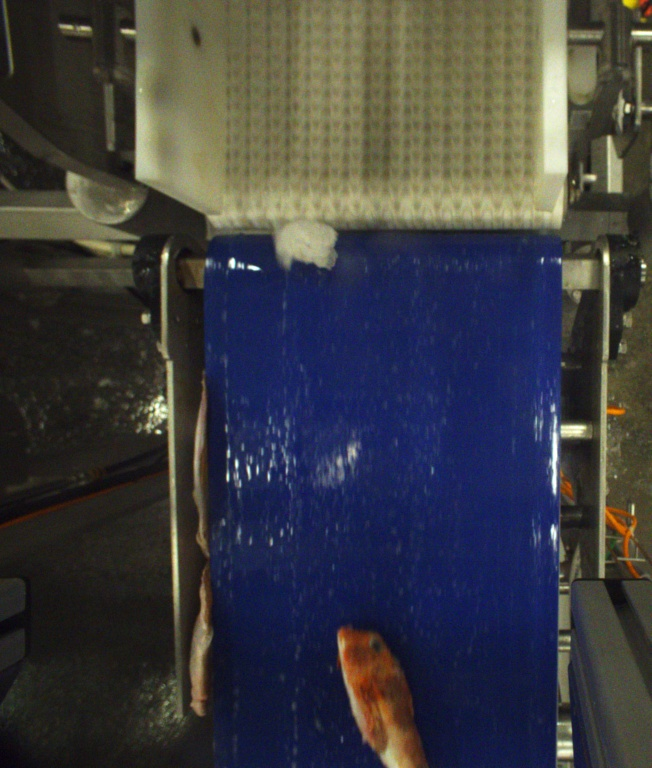GUU: (337, 625, 431, 768)
